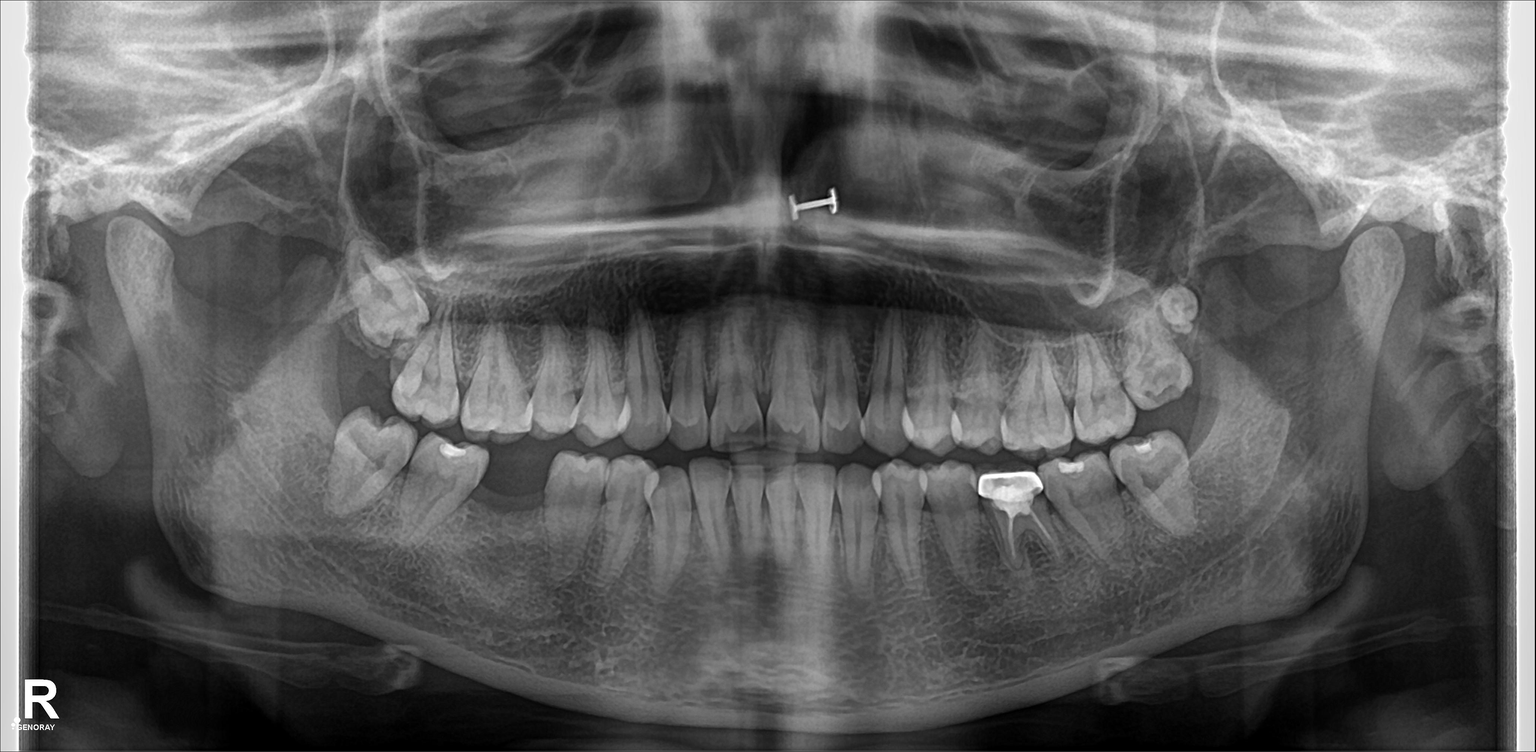Dental Caries: (1140, 363, 1183, 405)
Endodontically Treated Tooth: (991, 471, 1046, 570)
Impacted Third Molar: (354, 246, 426, 338), (1162, 283, 1198, 328)
Missing Tooth: (488, 458, 550, 559)
